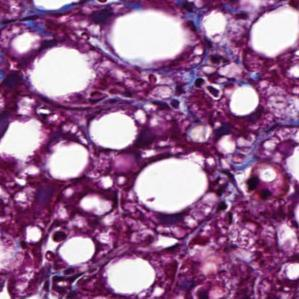inflammation: (141, 71, 222, 121), (234, 166, 290, 208)
